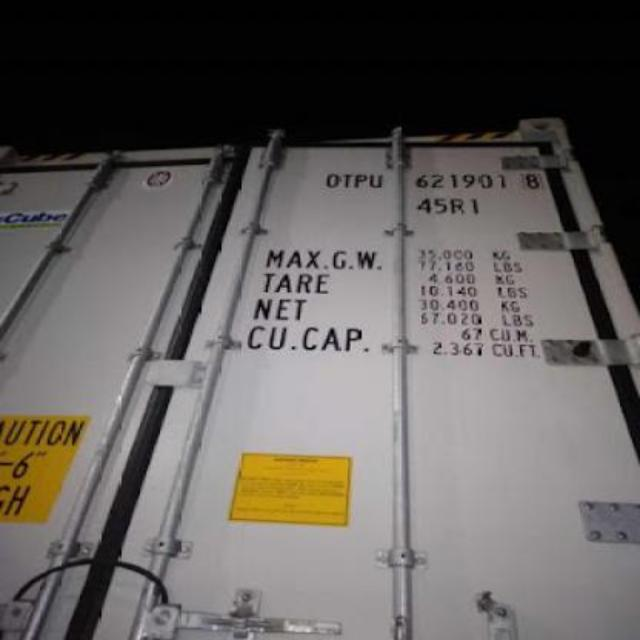0: (480, 174, 496, 188)
1: (496, 172, 509, 195), (448, 174, 460, 188)
2: (426, 174, 448, 188)
6: (418, 174, 428, 188)
8: (520, 172, 544, 190)
9: (462, 174, 476, 190)
O: (324, 174, 342, 188)
P: (354, 174, 368, 190)
T: (344, 172, 352, 188)
U: (368, 174, 384, 188)
